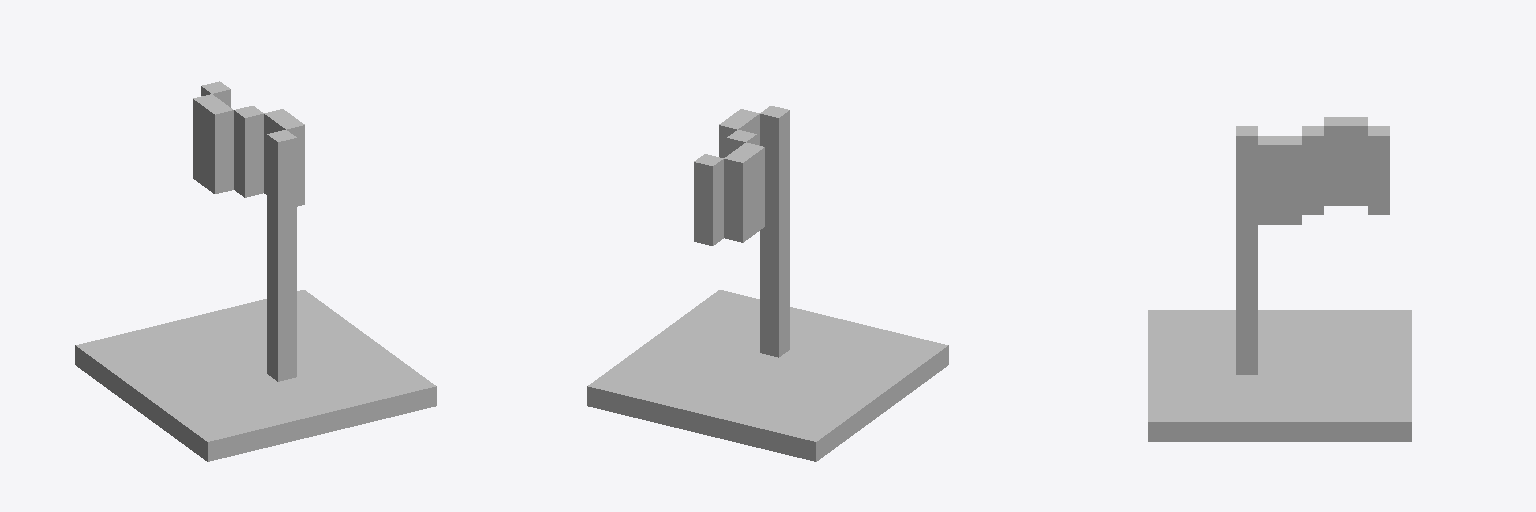
File: civ_flag.obj
3 views of the same model, side by side, from view 1: azimuth 30°, elevation 25°; view 2: azimuth 150°, elevation 25°; view 3: azimuth 270°, elevation 25° (orthographic).
Visible parts, largest first — view 1: mergedBlocks; view 2: mergedBlocks; view 3: mergedBlocks.
Part boxes in pixels (bbox=[...]): mergedBlocks: bbox=[75, 81, 436, 461]; mergedBlocks: bbox=[587, 106, 948, 461]; mergedBlocks: bbox=[1148, 117, 1411, 441].
Bounding box in the file's own units: 0.75 × 0.8125 × 0.75.